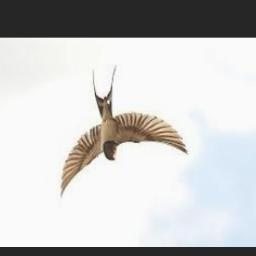Swallow: (59, 65, 187, 198)
